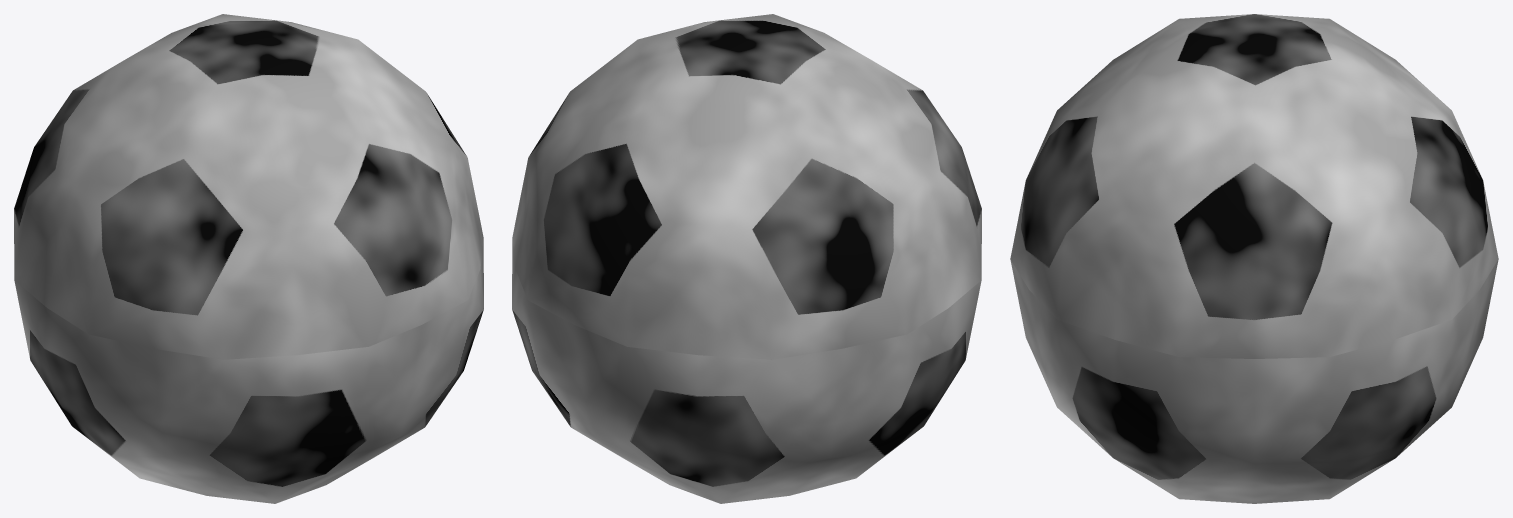
Rendered from H-JumpBall.fbx.
3 renders of one model, left to right at view 1: azimuth 30°, elevation 25°; view 2: azimuth 150°, elevation 25°; view 3: azimuth 270°, elevation 25°, orthographic.
Visible parts, largest first — view 1: JumpBall; view 2: JumpBall; view 3: JumpBall.
Part boxes in pixels (bbox=[...]): JumpBall: bbox=[14, 14, 483, 503]; JumpBall: bbox=[512, 14, 981, 503]; JumpBall: bbox=[1010, 14, 1498, 503].
Size of the model in its own units: 192 by 195 by 195.
Materials: 1 (1 with a texture image).
